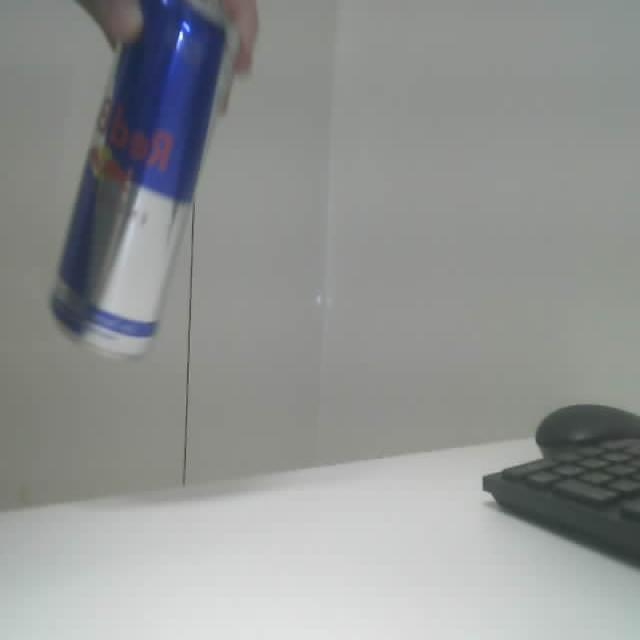redbull can: (51, 0, 237, 357)
